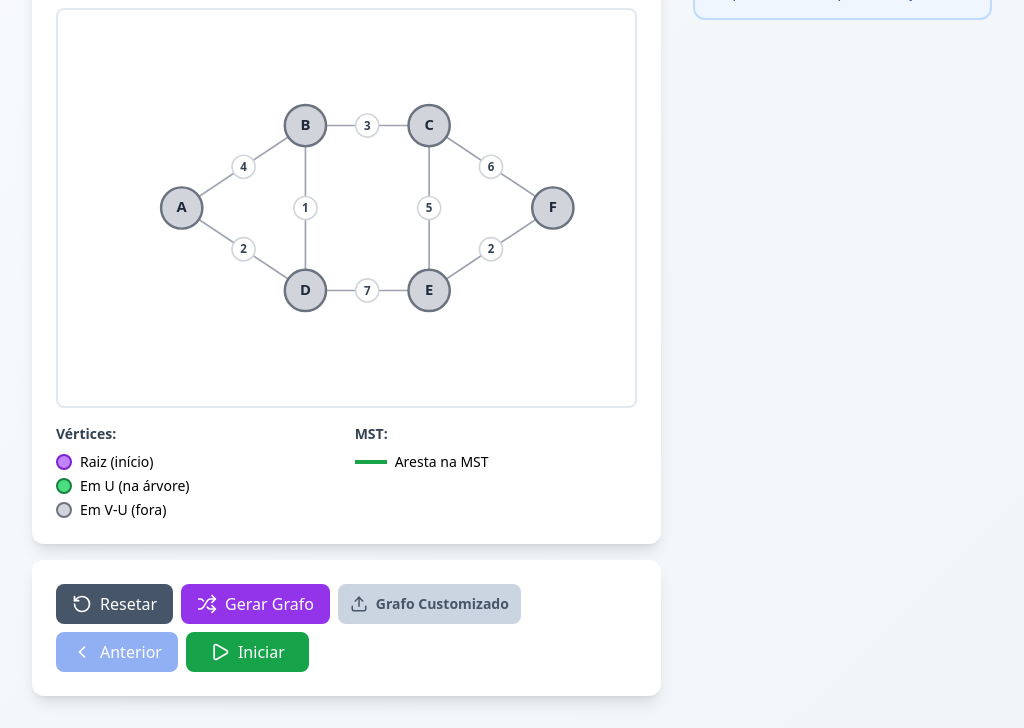
Test: PrimSimulator Integration › should show candidate edges panel
(page scrolled)
Click the button with test id "start-button" at (247, 652), box [186,632,309,672]
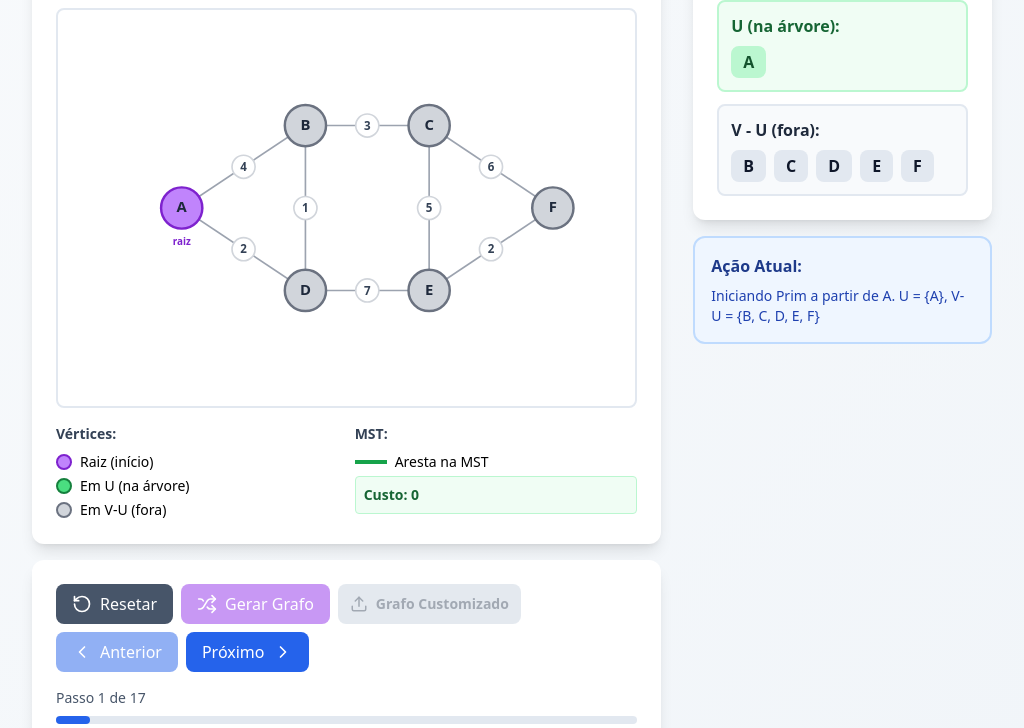
Click the button with test id "next-button" at (247, 652), box [186,632,308,672]
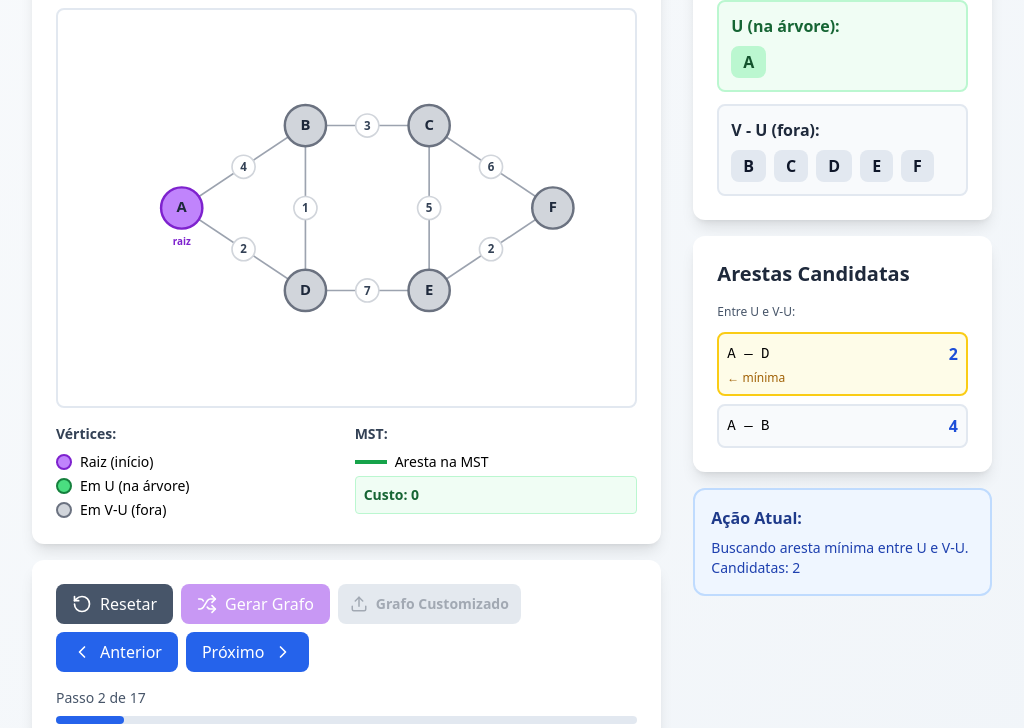
Now the element with test id "candidate-edges-panel" is shown, box [693,236,992,472]
